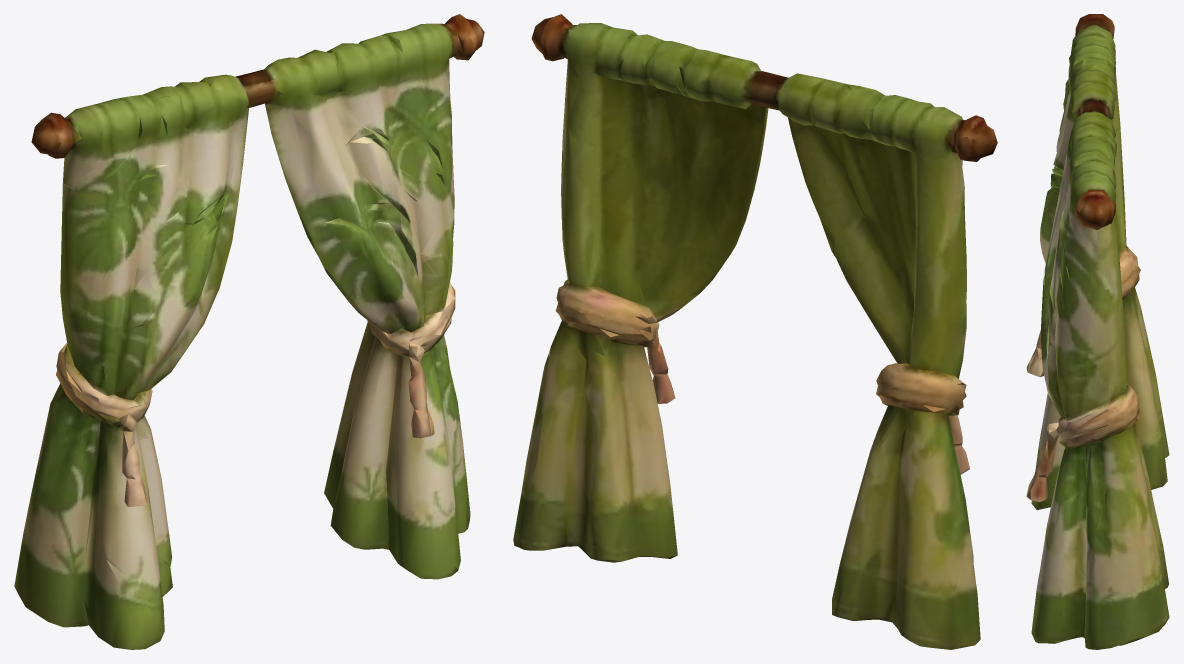
File: curtain04.glb
The picture shows the model from 3 angles, left to right: view 1: azimuth 30°, elevation 25°; view 2: azimuth 150°, elevation 25°; view 3: azimuth 270°, elevation 25°; orthographic projection. The views are drawn at different scales.
Bounding box in the file's own units: 0.2402 × 0.2689 × 0.0741.
1 material, 1 textured.
